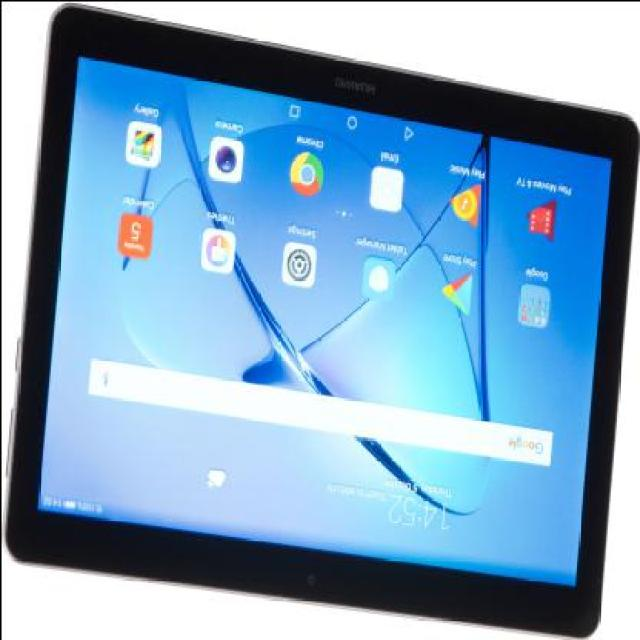tablet: (34, 5, 619, 638)
